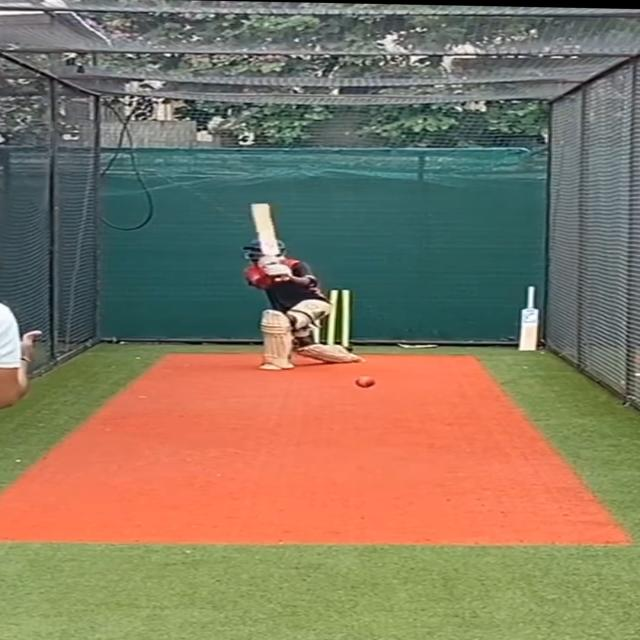ball: (351, 376, 378, 390)
stump: (312, 287, 356, 351)
